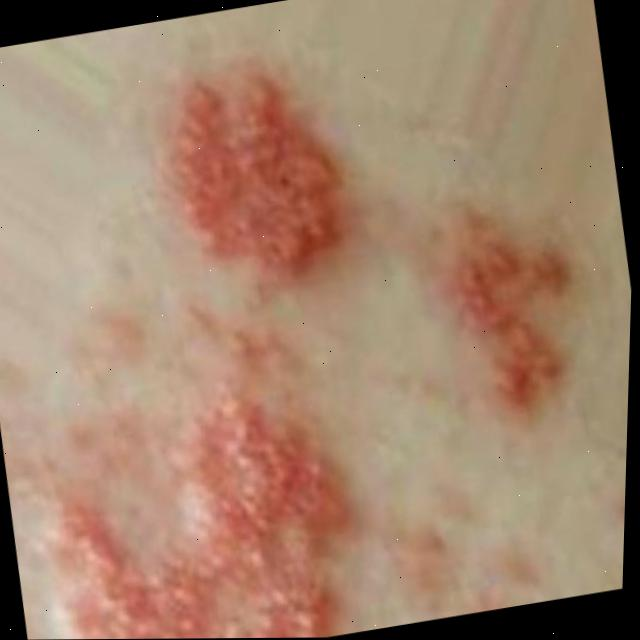Shingles: (0, 1, 630, 640)
